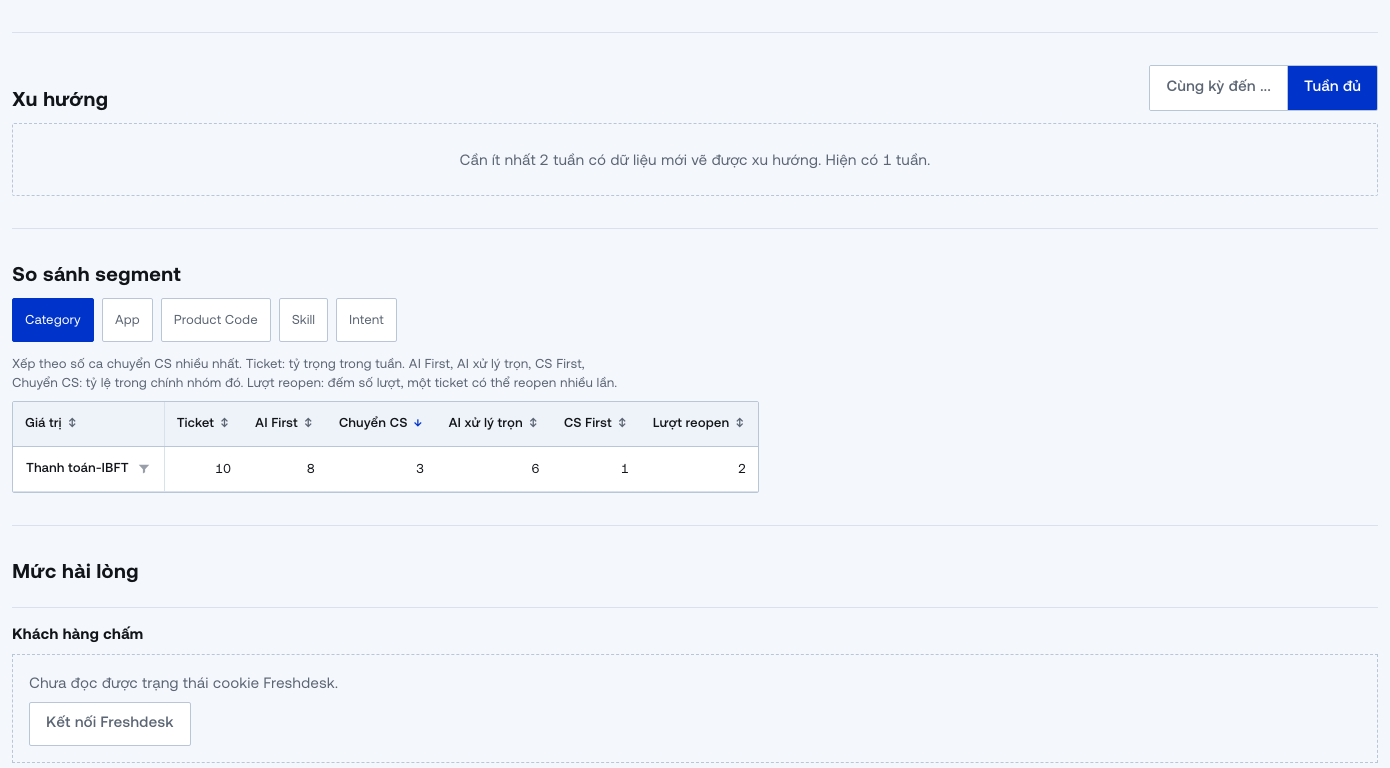
Below-fold analysis › hides zero-ticket Skill rows without hiding a positive row whose child metrics are zero
Click the tab "Skill".
click(303, 320)  # box [279, 298, 328, 342]
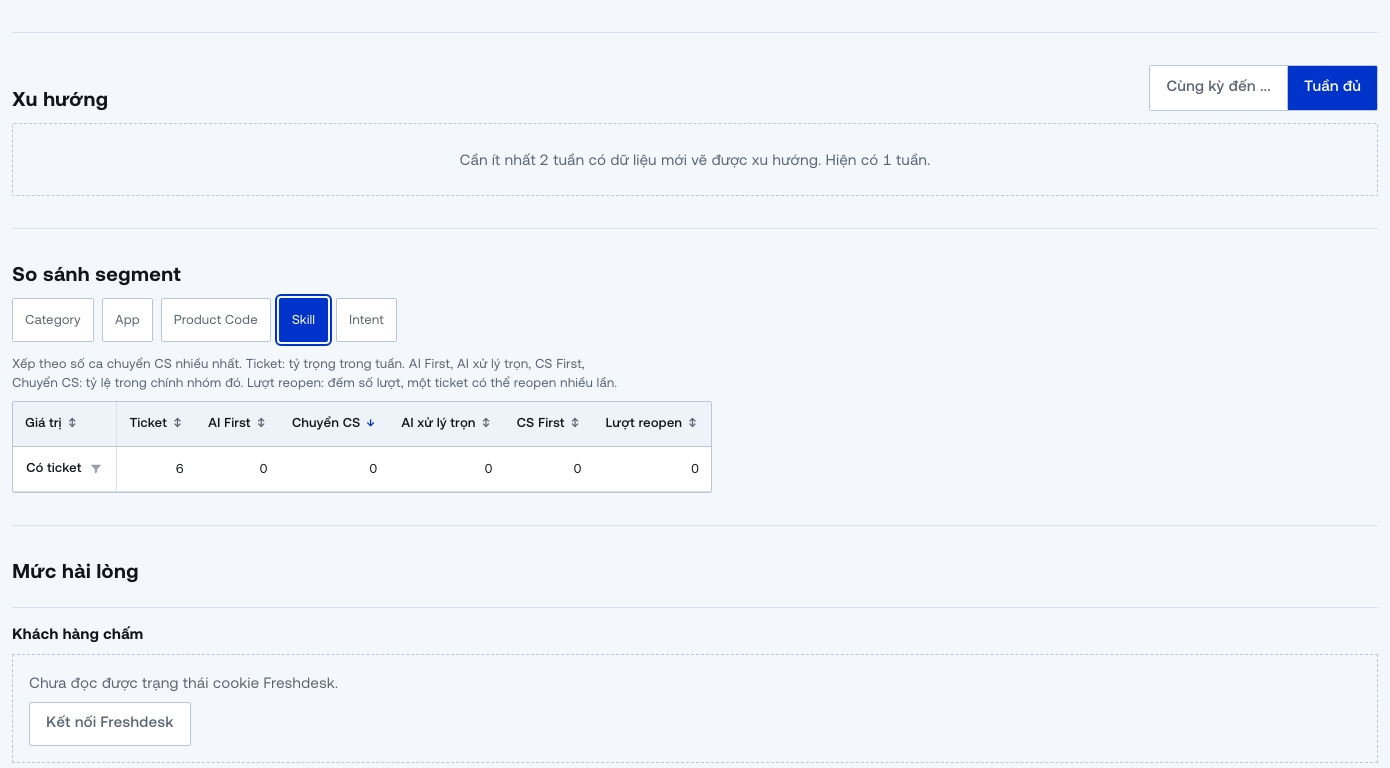
Result: the text "6" is shown at [117, 446, 196, 491]
